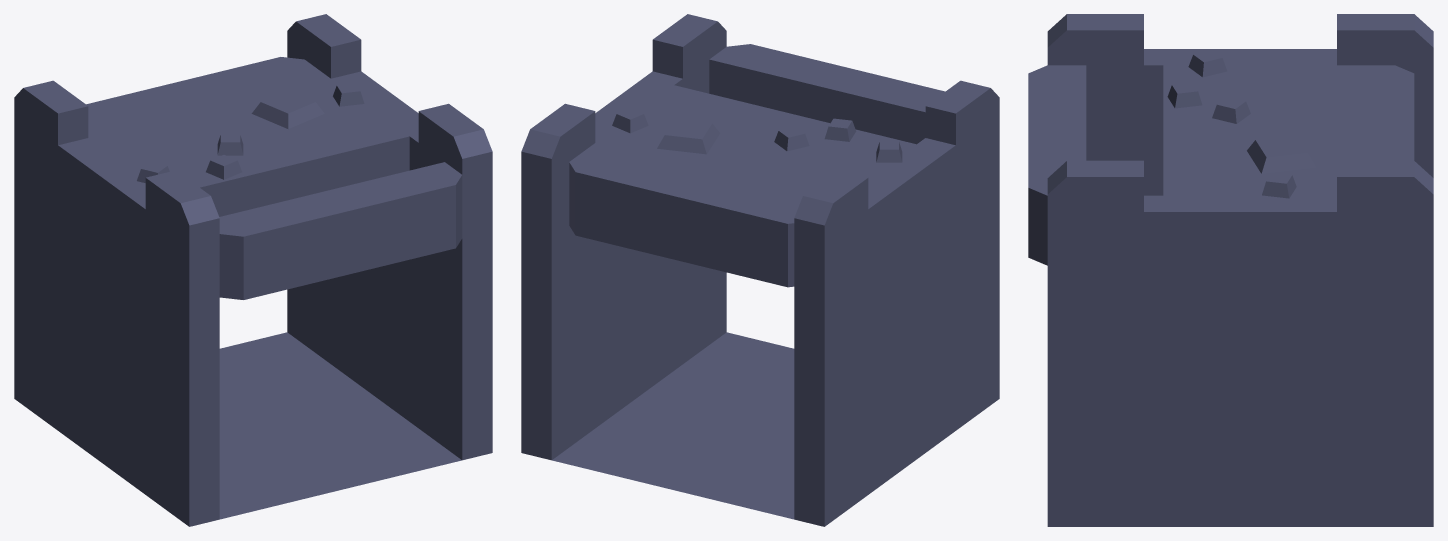
The model's file is kenney_mini-dungeon__wall-opening__cave.fbx.
The picture shows the model from 3 angles, left to right: view 1: azimuth 30°, elevation 25°; view 2: azimuth 150°, elevation 25°; view 3: azimuth 270°, elevation 25°; orthographic projection. The views are drawn at different scales.
Visible parts, largest first — view 1: kenney_mini-dungeon__wall-opening__cave_stone; view 2: kenney_mini-dungeon__wall-opening__cave_stone; view 3: kenney_mini-dungeon__wall-opening__cave_stone.
Part boxes in pixels (x1=…): kenney_mini-dungeon__wall-opening__cave_stone: x1=14, y1=14, x2=492, y2=526; kenney_mini-dungeon__wall-opening__cave_stone: x1=521, y1=14, x2=999, y2=526; kenney_mini-dungeon__wall-opening__cave_stone: x1=1028, y1=14, x2=1433, y2=526.
Bounding box in the file's own units: 3.57 × 3.57 × 3.75.
Materials: 1 (1 with a texture image).
